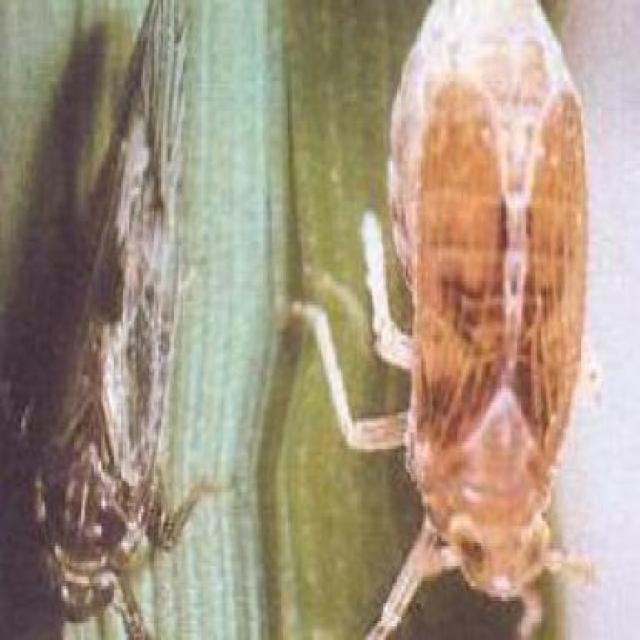brown-planthopper: (383, 0, 589, 600), (20, 5, 198, 623)
